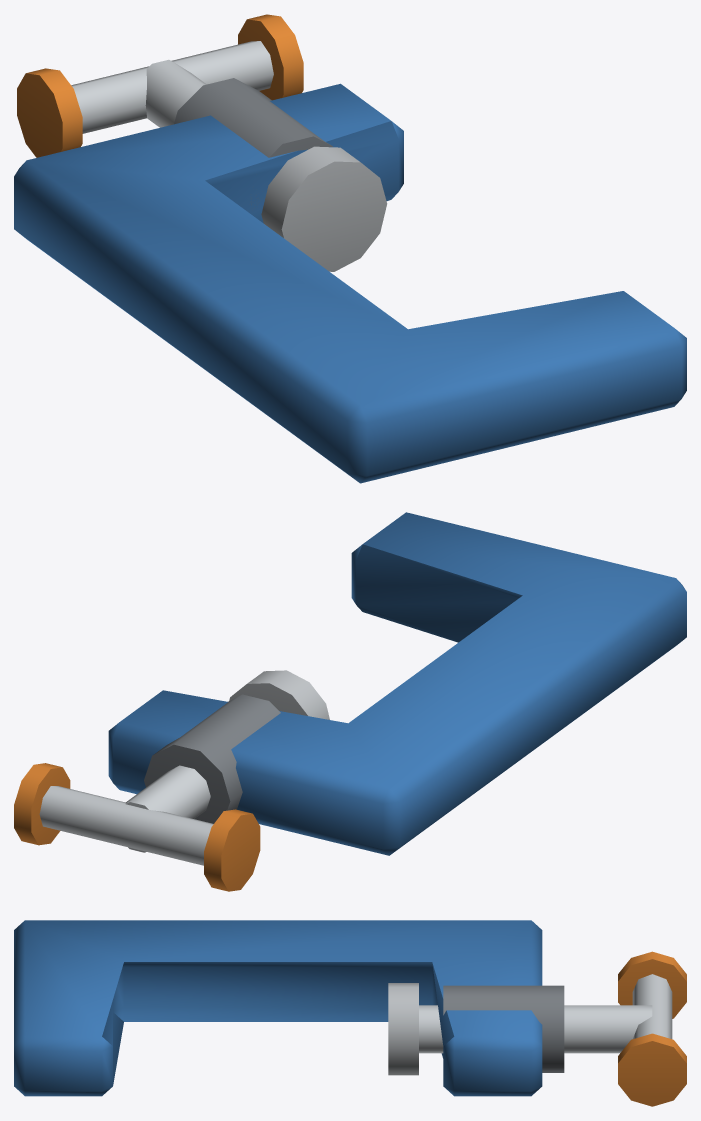
The model's file is SM_Clamp_C_01.glb.
3 renders of one model, top to bottom at view 1: azimuth 30°, elevation 25°; view 2: azimuth 150°, elevation 25°; view 3: azimuth 270°, elevation 25°, orthographic. The views are drawn at different scales.
Visible parts, largest first — view 1: SM_Clamp_C_01; view 2: SM_Clamp_C_01; view 3: SM_Clamp_C_01.
Part boxes in pixels (x1=…): SM_Clamp_C_01: x1=14, y1=14, x2=686, y2=483; SM_Clamp_C_01: x1=14, y1=512, x2=686, y2=891; SM_Clamp_C_01: x1=14, y1=920, x2=686, y2=1106.
Bounding box in the file's own units: 0.138 × 0.042 × 0.3057.
1 material, 1 textured.
